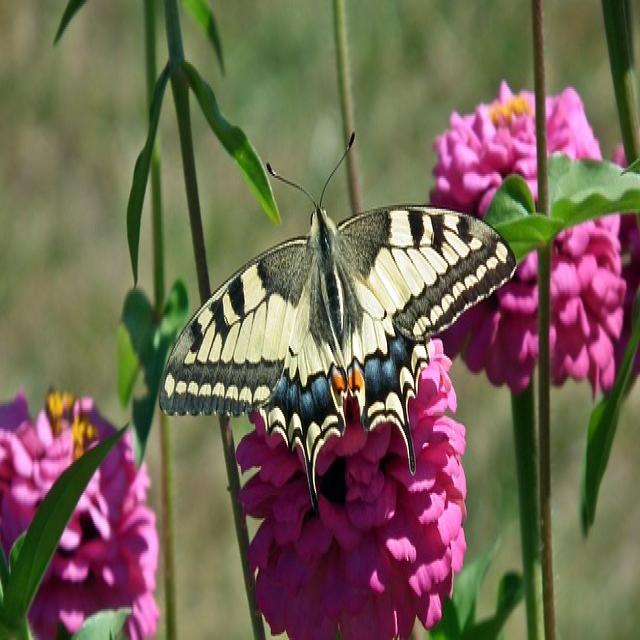butterfly: (160, 205, 516, 509)
